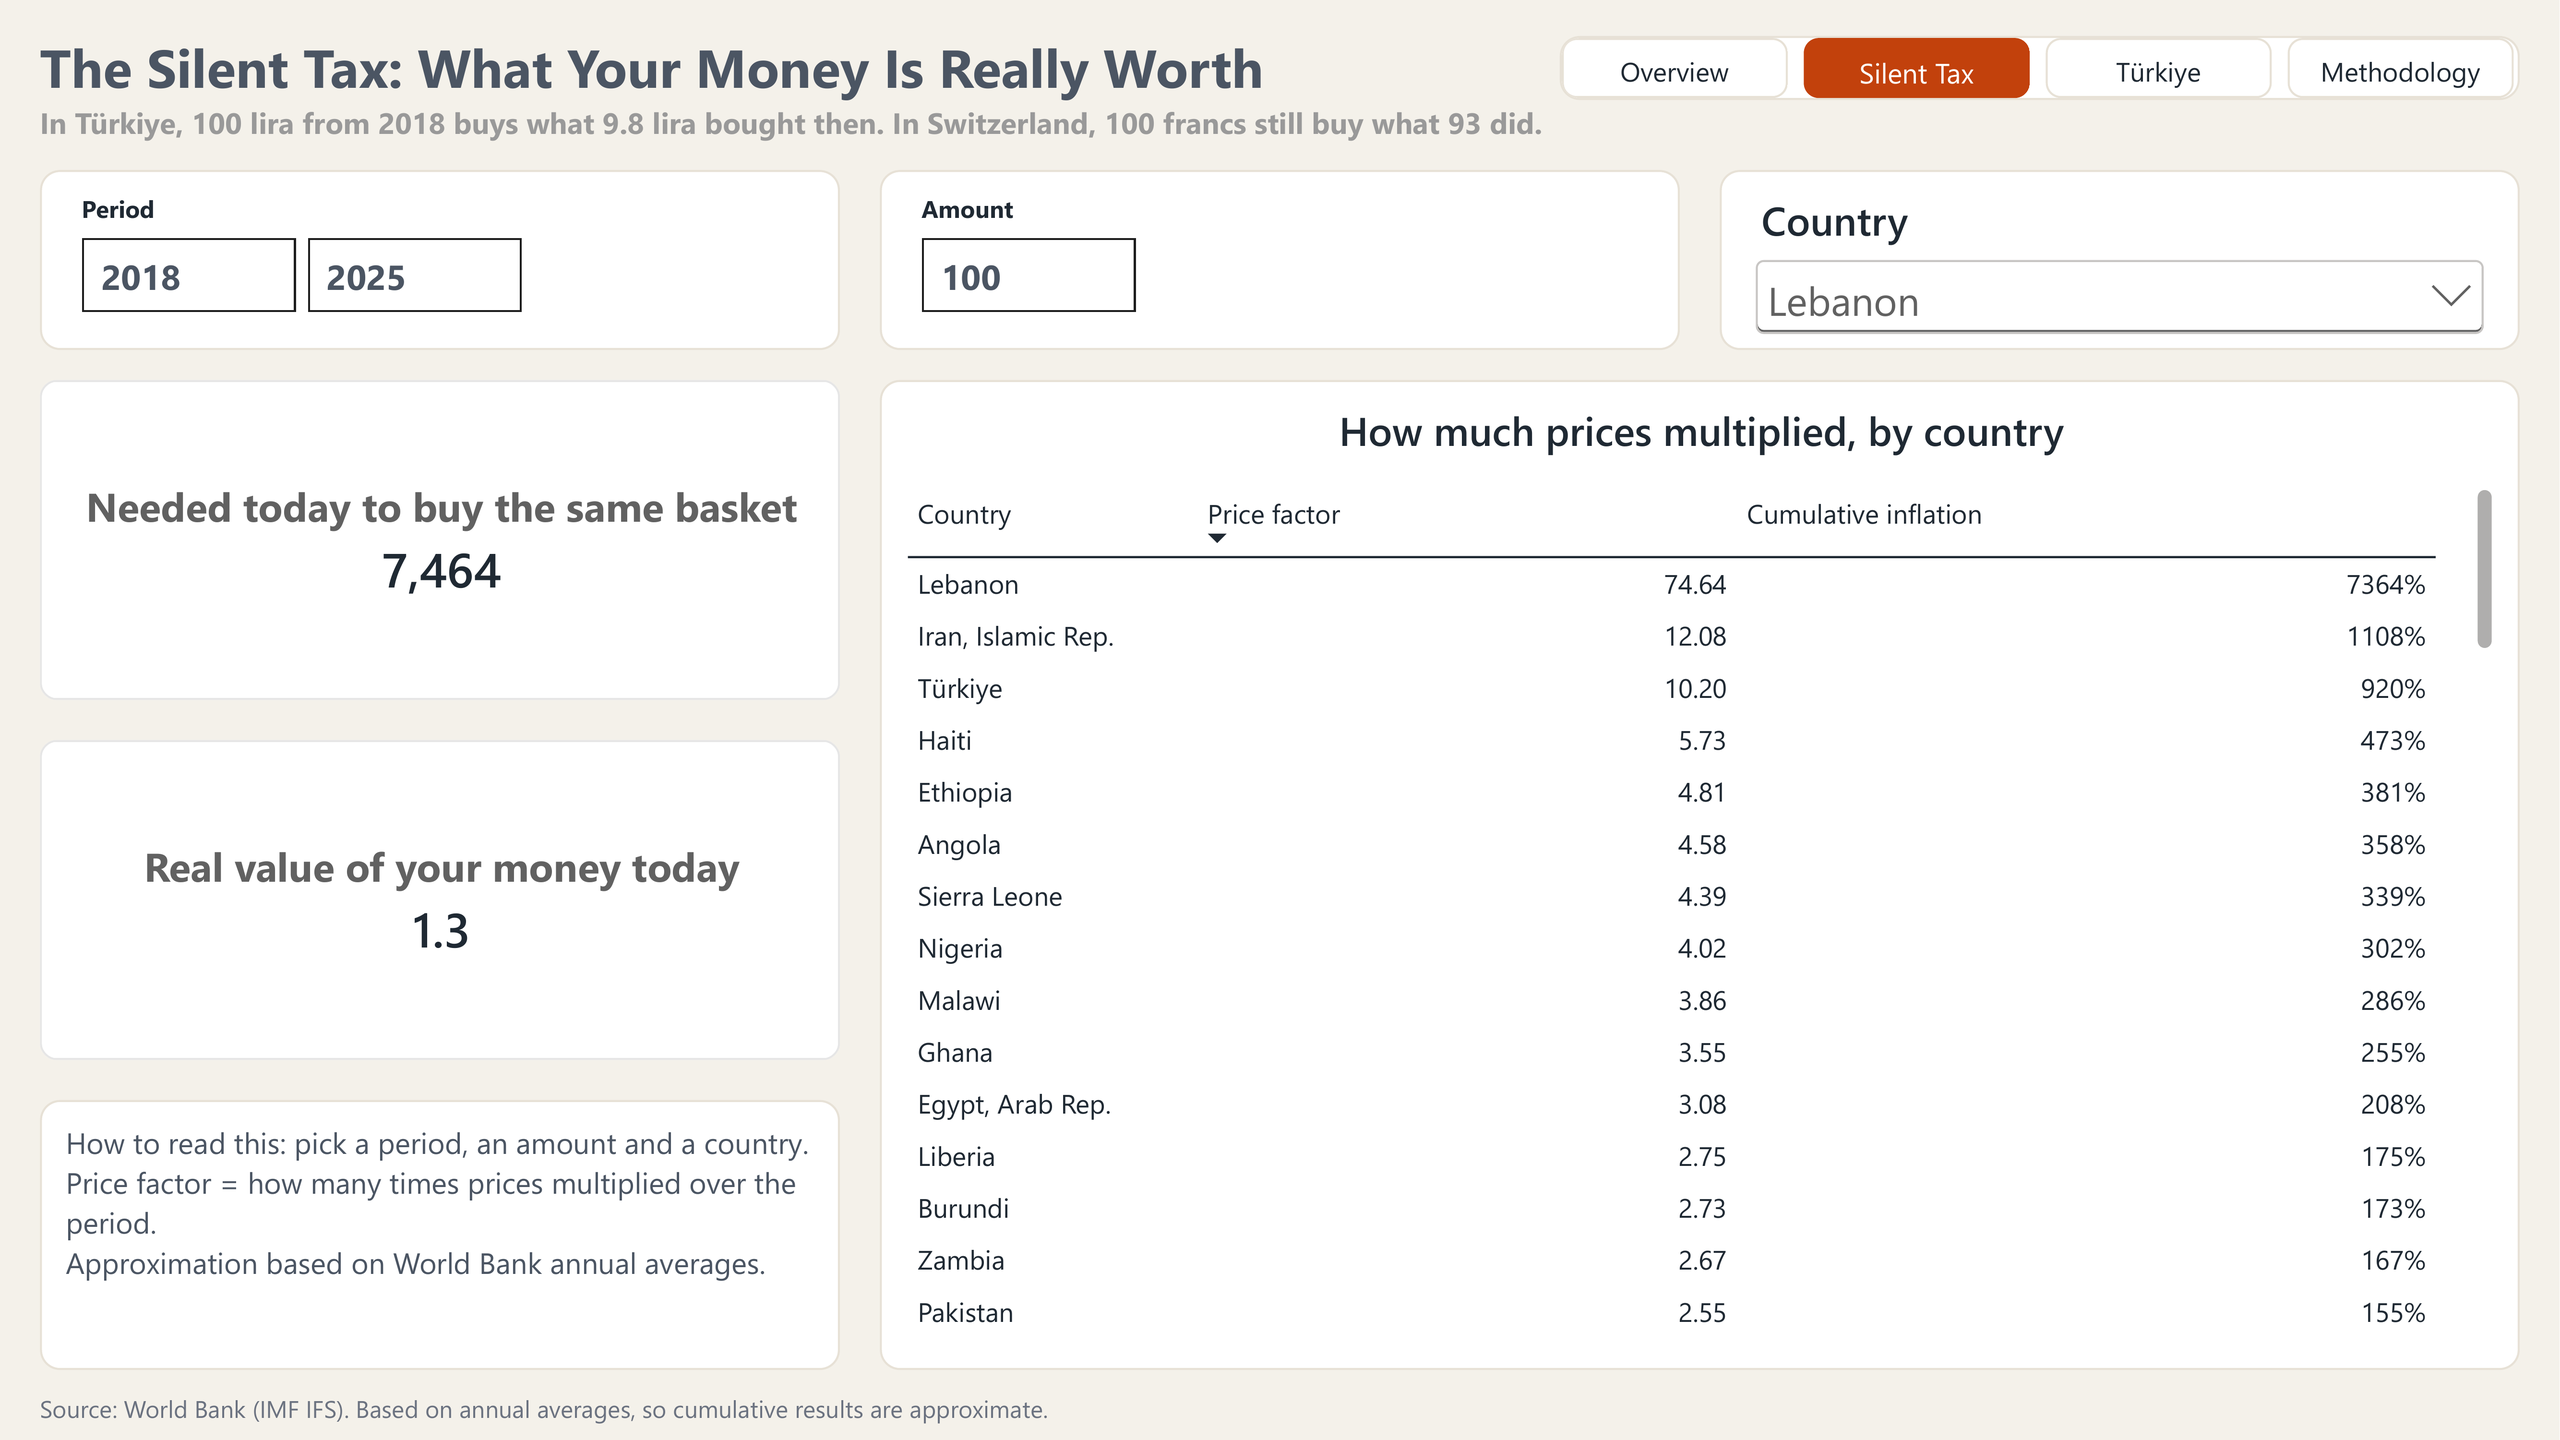

This screenshot's page, from the dashboard's own definition file:
{"tool":"powerbi","page":{"name":"Silent Tax","canvas":[1280,720],"ordinal":1},"visuals":[{"type":"slicer","fields":{"Values":["Calendar.Year"]},"box":[20,85,400,90],"z":0},{"type":"tableEx","title":"How much prices multiplied, by country","fields":{"Values":["Countries.Country Name","Inflation.Price Factor","Inflation.Cumulative Inflation"]},"box":[440,190,820,495],"z":1000},{"type":"slicer","fields":{"Values":["Amount.Amount"]},"box":[440,85,400,90],"z":2000},{"type":"slicer","fields":{"Values":["Countries.Country Name"]},"box":[860,85,400,90],"z":3000},{"type":"cardVisual","fields":{"Data":["Inflation.Needed Today Label"]},"box":[20,190,400,160],"z":4000},{"type":"cardVisual","fields":{"Data":["Inflation.Real Value"]},"box":[20,370,400,160],"z":5000},{"type":"textbox","box":[20,15,1240,60],"z":6000},{"type":"textbox","box":[20,550,400,135],"z":7000},{"type":"textbox","box":[20,695,1240.6,22],"z":8000},{"type":"pageNavigator","box":[780,18,480,32],"z":8001}]}

Visuals, with their boxes in screenshot pixels (x1, y1, x2, y2), scaled from the page's 1280x720 canvas onto the 2560x1440 screenshot:
slicer - Calendar.Year: bbox=[40, 170, 840, 350]
"How much prices multiplied, by country" tableEx: bbox=[880, 380, 2520, 1370]
slicer - Amount.Amount: bbox=[880, 170, 1680, 350]
slicer - Countries.Country Name: bbox=[1720, 170, 2520, 350]
cardVisual - Inflation.Needed Today Label: bbox=[40, 380, 840, 700]
cardVisual - Inflation.Real Value: bbox=[40, 740, 840, 1060]
textbox: bbox=[40, 30, 2520, 150]
textbox: bbox=[40, 1100, 840, 1370]
textbox: bbox=[40, 1390, 2521, 1434]
pageNavigator: bbox=[1560, 36, 2520, 100]
